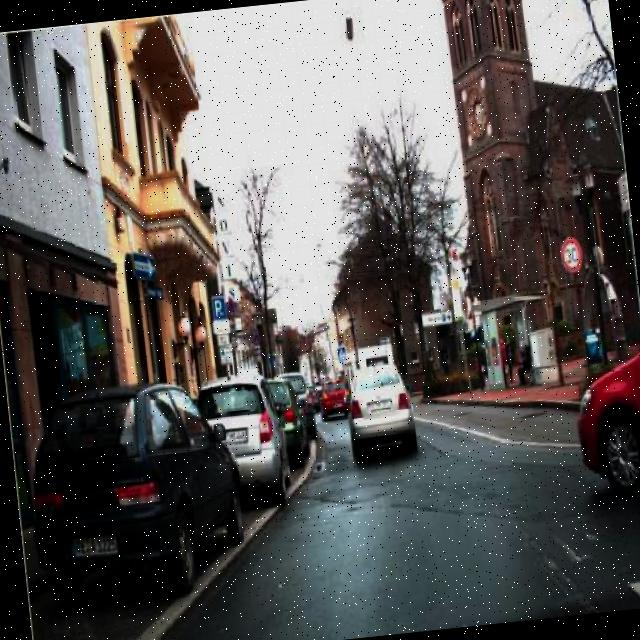Ograniczenie predkosci do 30: (558, 234, 583, 276)
Przejscie dla pieszych: (334, 343, 348, 364)
